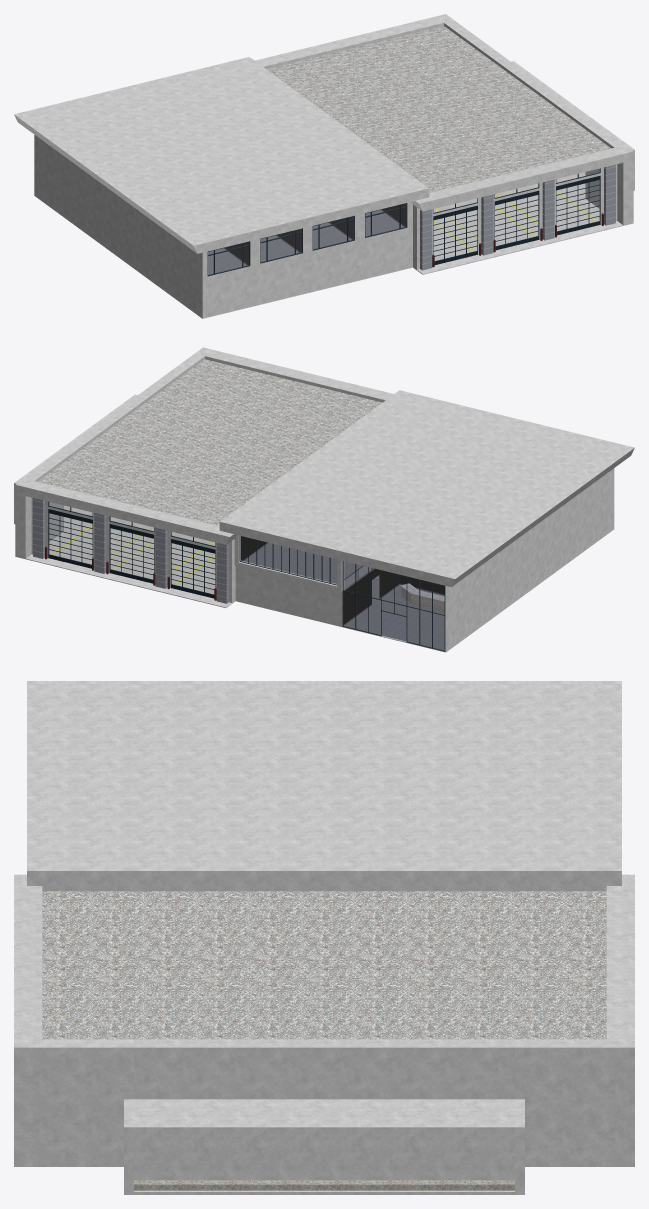
File: fire_station.fbx
The picture shows the model from 3 angles, top to bottom: view 1: azimuth 30°, elevation 25°; view 2: azimuth 150°, elevation 25°; view 3: azimuth 270°, elevation 25°; orthographic projection. The views are drawn at different scales.
Parts seen in each view (by area): view 1: fire_station; view 2: fire_station; view 3: fire_station.
Part boxes in pixels (box(x1,y1,x2,y2)): fire_station: box(14, 14, 634, 318); fire_station: box(14, 347, 634, 652); fire_station: box(14, 681, 634, 1194).
Size of the model in its own units: 9445 by 13670 by 2267.
27 materials, 17 textured.
